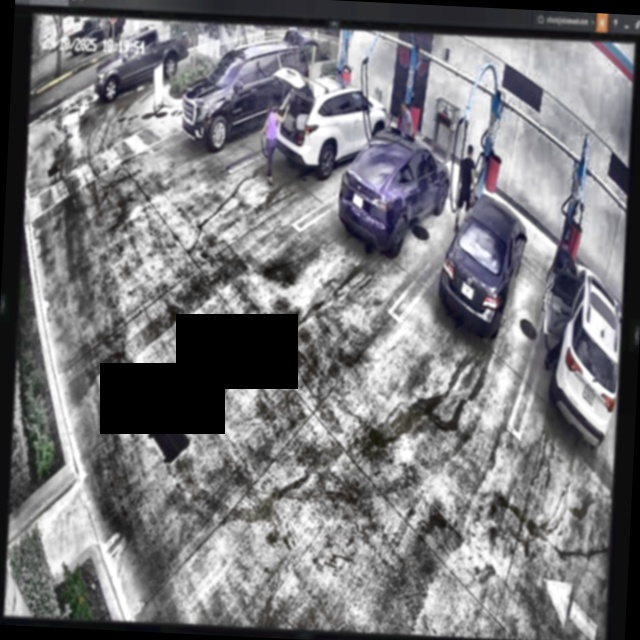Car: (338, 123, 452, 255), (438, 192, 529, 341), (268, 68, 390, 178)
